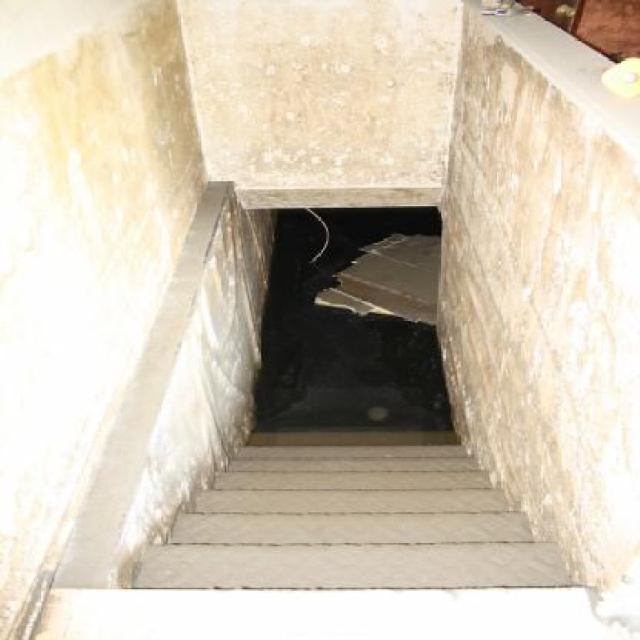stair: (24, 424, 635, 640)
